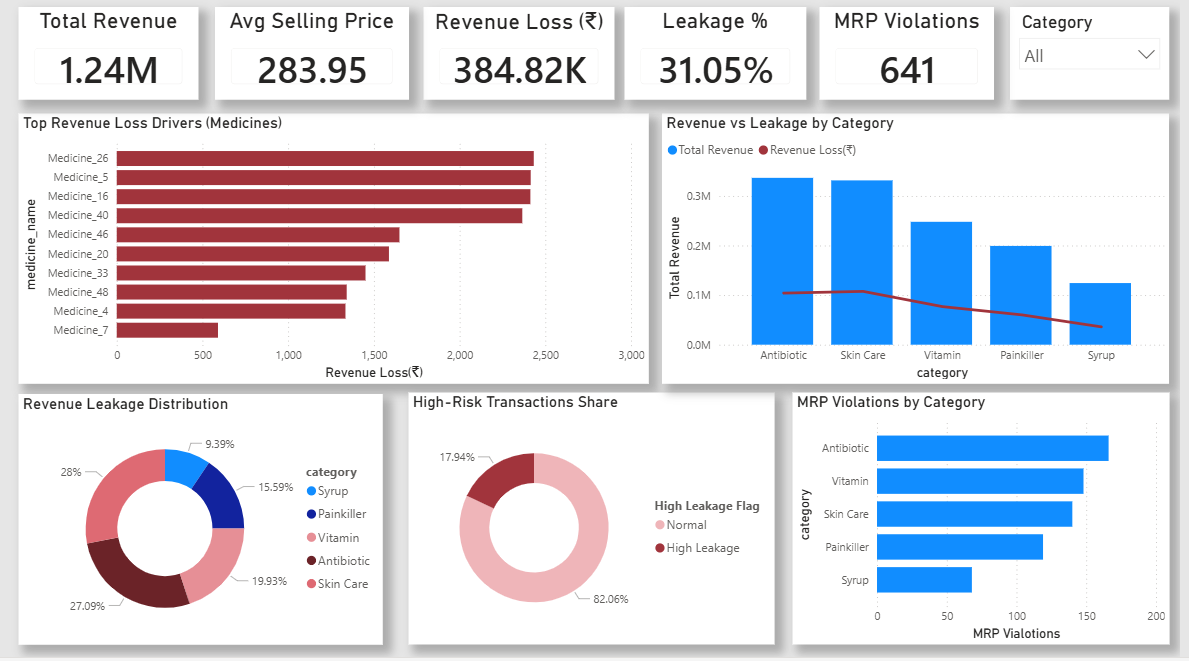

The page's visual inventory and layout, read from the dashboard file:
{"tool":"powerbi","page":{"name":"Executive Overview","canvas":[1280,720],"ordinal":0},"visuals":[{"type":"barChart","title":"Top Revenue Loss Drivers (Medicines)","fields":{"Category":["products.medicine_name"],"Y":["sales.Revenue Loss(₹)"]},"box":[12.1,125.7,689,295.3],"z":0},{"type":"donutChart","title":"Revenue Leakage Distribution","fields":{"Category":["products.category"],"Y":["sales.Revenue Leakage"]},"box":[12.1,433.1,398.2,274.1],"z":1000},{"type":"donutChart","title":"High-Risk Transactions Share","fields":{"Category":["sales.High Leakage Flag"],"Y":["CountNonNull(sales.sale_id)"]},"box":[437.6,431.5,399.8,275.6],"z":2000},{"type":"lineClusteredColumnComboChart","title":"Revenue vs Leakage by Category","fields":{"Category":["products.category"],"Y":["sales.Total Revenue"],"Y2":["sales.Revenue Loss(₹)"]},"box":[714.7,125.7,554.2,295.3],"z":3000},{"type":"barChart","title":"MRP Violations by Category","fields":{"Category":["products.category"],"Y":["sales.MRP Vialotions"]},"box":[857,431.5,411.9,275.6],"z":4000},{"type":"slicer","title":"Filter by Category","fields":{"Values":["products.category"]},"box":[1094.8,10.6,174.1,101.5],"z":5000},{"type":"cardVisual","title":"Total Revenue","fields":{"Data":["sales.Total Revenue"]},"box":[12.1,10.6,196.8,101.5],"z":6000},{"type":"cardVisual","title":"Revenue Loss (₹)","fields":{"Data":["sales.Revenue Loss(₹)"]},"box":[454.3,10.6,209,101.5],"z":7000},{"type":"cardVisual","title":"Leakage %","fields":{"Data":["sales.Leakage%"]},"box":[673.8,10.6,198.4,101.5],"z":8000},{"type":"cardVisual","title":"MRP Violations","fields":{"Data":["sales.MRP Vialotions"]},"box":[885.8,10.6,190.8,101.5],"z":9000},{"type":"cardVisual","title":"Avg Selling Price","fields":{"Data":["Avg(sales.selling_price)"]},"box":[225.6,10.6,212,101.5],"z":10000}]}

Visuals, with their boxes in screenshot pixels (x1, y1, x2, y2), scaled from the page's 1280x720 canvas onto the 1189x661 screenshot:
"Top Revenue Loss Drivers (Medicines)" barChart: bbox=[11, 115, 651, 387]
"Revenue Leakage Distribution" donutChart: bbox=[11, 398, 381, 649]
"High-Risk Transactions Share" donutChart: bbox=[406, 396, 778, 649]
"Revenue vs Leakage by Category" lineClusteredColumnComboChart: bbox=[664, 115, 1179, 387]
"MRP Violations by Category" barChart: bbox=[796, 396, 1179, 649]
"Filter by Category" slicer: bbox=[1017, 10, 1179, 103]
"Total Revenue" cardVisual: bbox=[11, 10, 194, 103]
"Revenue Loss (₹)" cardVisual: bbox=[422, 10, 616, 103]
"Leakage %" cardVisual: bbox=[626, 10, 810, 103]
"MRP Violations" cardVisual: bbox=[823, 10, 1000, 103]
"Avg Selling Price" cardVisual: bbox=[210, 10, 406, 103]
